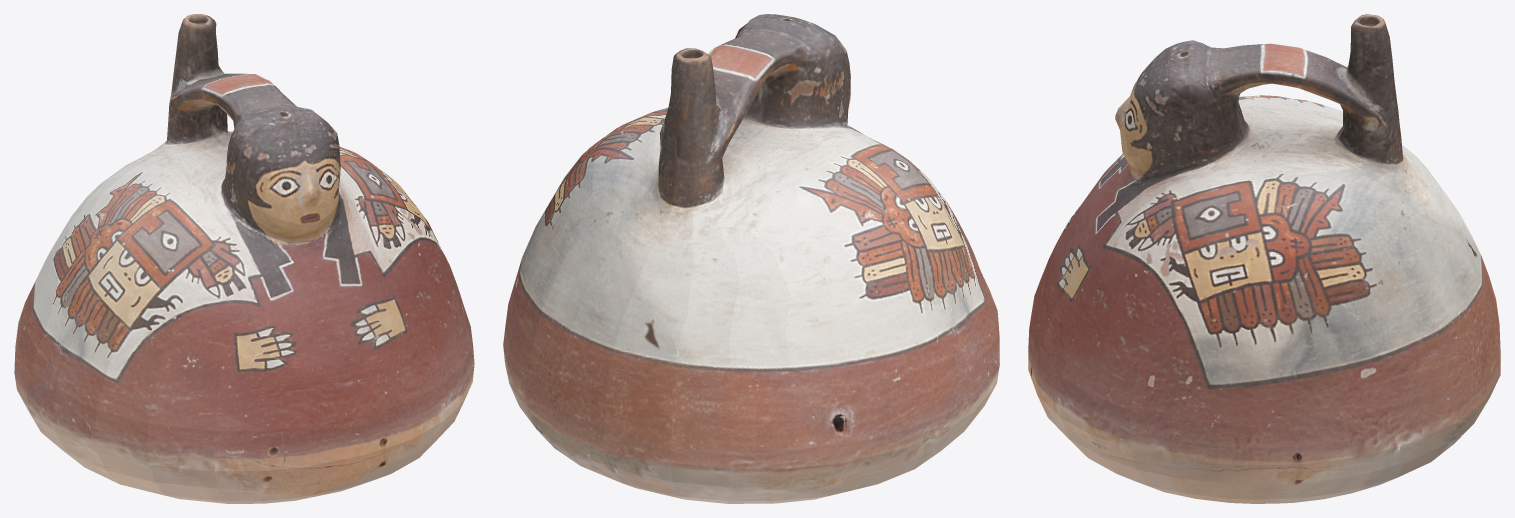
The model's file is objeto_11_nasca.glb.
3 views of the same model, side by side, from view 1: azimuth 30°, elevation 25°; view 2: azimuth 150°, elevation 25°; view 3: azimuth 270°, elevation 25° (orthographic). The views are drawn at different scales.
Visible parts, largest first — view 1: Box003; view 2: Box003; view 3: Box003.
Part boxes in pixels (box(x1,y1,x2,y2)): Box003: box(14, 14, 474, 503); Box003: box(503, 14, 999, 503); Box003: box(1028, 14, 1500, 503).
Size of the model in its own units: 66.42 by 60.26 by 63.56.
1 material, 1 textured.
